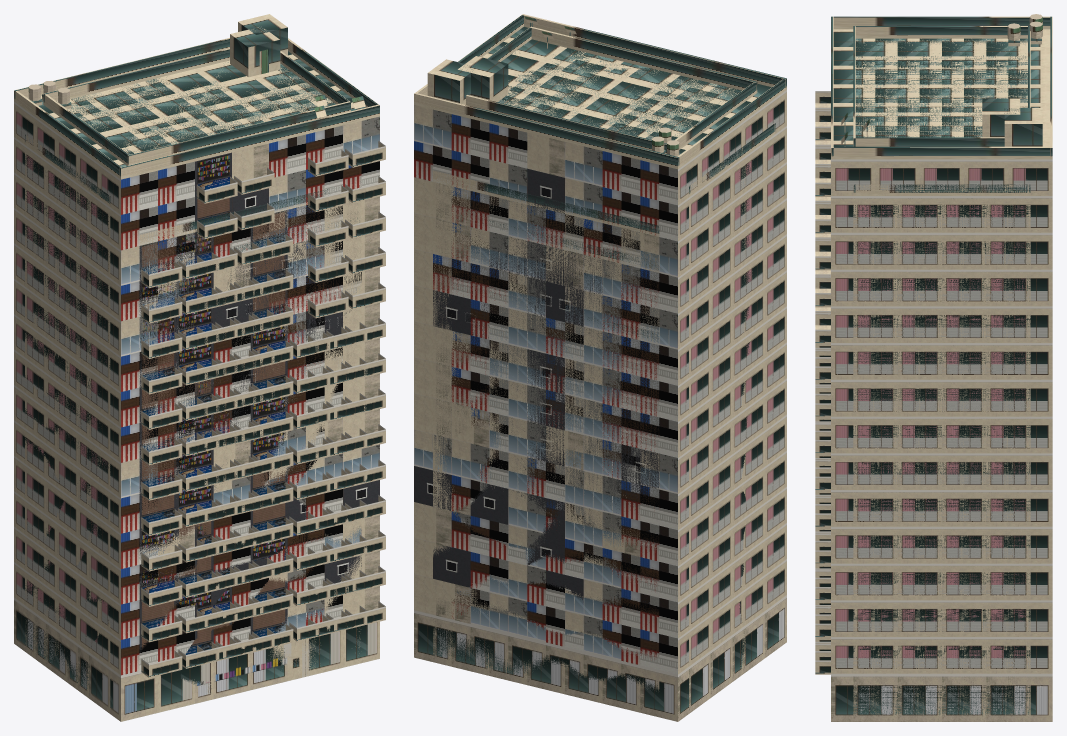
3 renders of one model, left to right at view 1: azimuth 30°, elevation 25°; view 2: azimuth 150°, elevation 25°; view 3: azimuth 270°, elevation 25°, orthographic. The views are drawn at different scales.
Parts seen in each view (by area): view 1: Modern_7x5_f14_v1, Modern_6x5_f12_v1, Modern_7x4_f13_v0, Modern_6x4_f14_v0, Modern_7x5_f14_v0, Modern_6x5_f9_v0, Modern_6x5_f11_v1; view 2: Modern_7x5_f14_v1, Modern_6x5_f12_v1, Modern_7x4_f13_v0, Modern_6x4_f14_v0, Modern_6x5_f11_v1; view 3: Modern_7x5_f14_v1, Modern_7x4_f13_v0, Modern_6x4_f14_v0, Modern_7x5_f14_v0, Modern_6x5_f9_v0.
Boxes of the visible parts, x1,y1,x2,y2 form: Modern_7x5_f14_v1: (14, 14, 379, 721); Modern_6x5_f12_v1: (139, 189, 361, 700); Modern_7x4_f13_v0: (25, 134, 110, 713); Modern_6x4_f14_v0: (43, 27, 350, 165); Modern_7x5_f14_v0: (234, 96, 385, 651); Modern_6x5_f9_v0: (166, 305, 367, 641); Modern_6x5_f11_v1: (145, 218, 359, 659); Modern_7x5_f14_v1: (414, 14, 786, 721); Modern_6x5_f12_v1: (433, 170, 659, 691); Modern_7x4_f13_v0: (689, 123, 775, 713); Modern_6x4_f14_v0: (458, 26, 757, 153); Modern_6x5_f11_v1: (433, 207, 658, 271); Modern_7x5_f14_v1: (815, 14, 1052, 721); Modern_7x4_f13_v0: (853, 184, 1030, 721); Modern_6x4_f14_v0: (853, 23, 1030, 146); Modern_7x5_f14_v0: (815, 109, 847, 674); Modern_6x5_f9_v0: (815, 344, 830, 660).
Bounding box in the file's own units: 24.5 × 51.7 × 18.75.
Materials: 1 (1 with a texture image).
